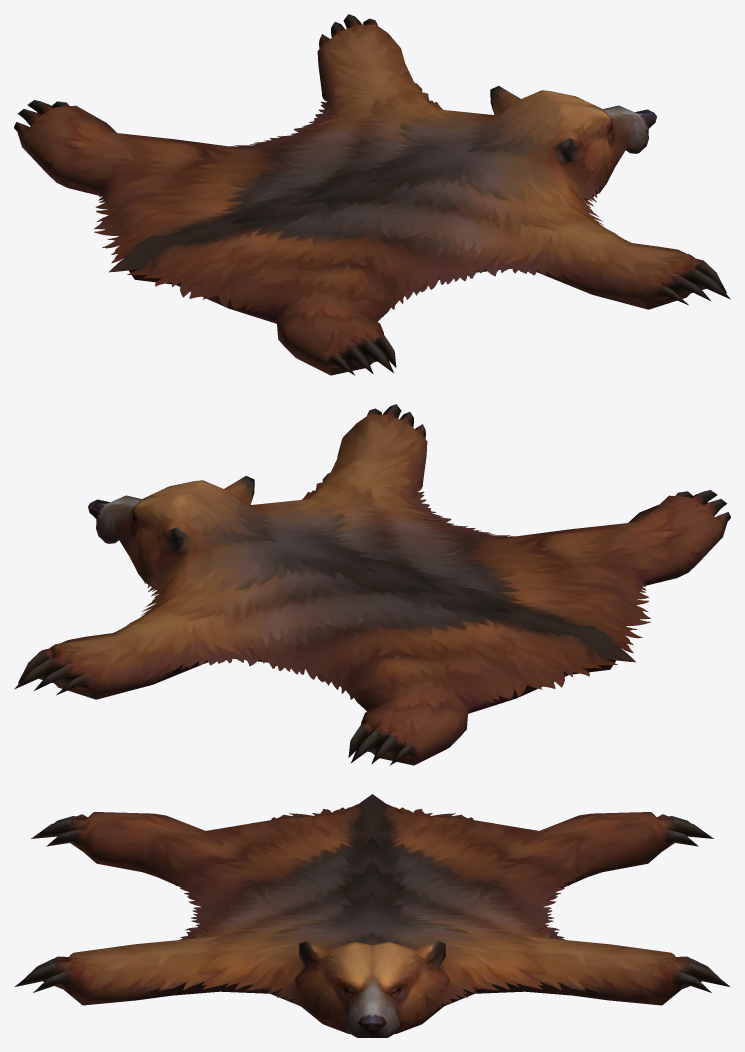
3 views of the same model, one above another, from view 1: azimuth 30°, elevation 25°; view 2: azimuth 150°, elevation 25°; view 3: azimuth 270°, elevation 25° (orthographic). The views are drawn at different scales.
Size of the model in its own units: 5.41 by 0.7449 by 6.59.
1 material, 1 textured.
